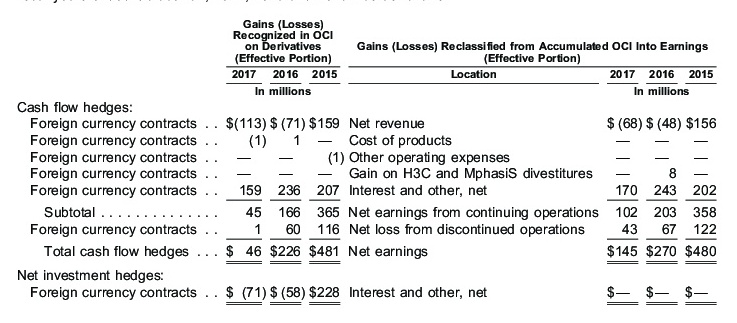table: (0, 0, 737, 323)
